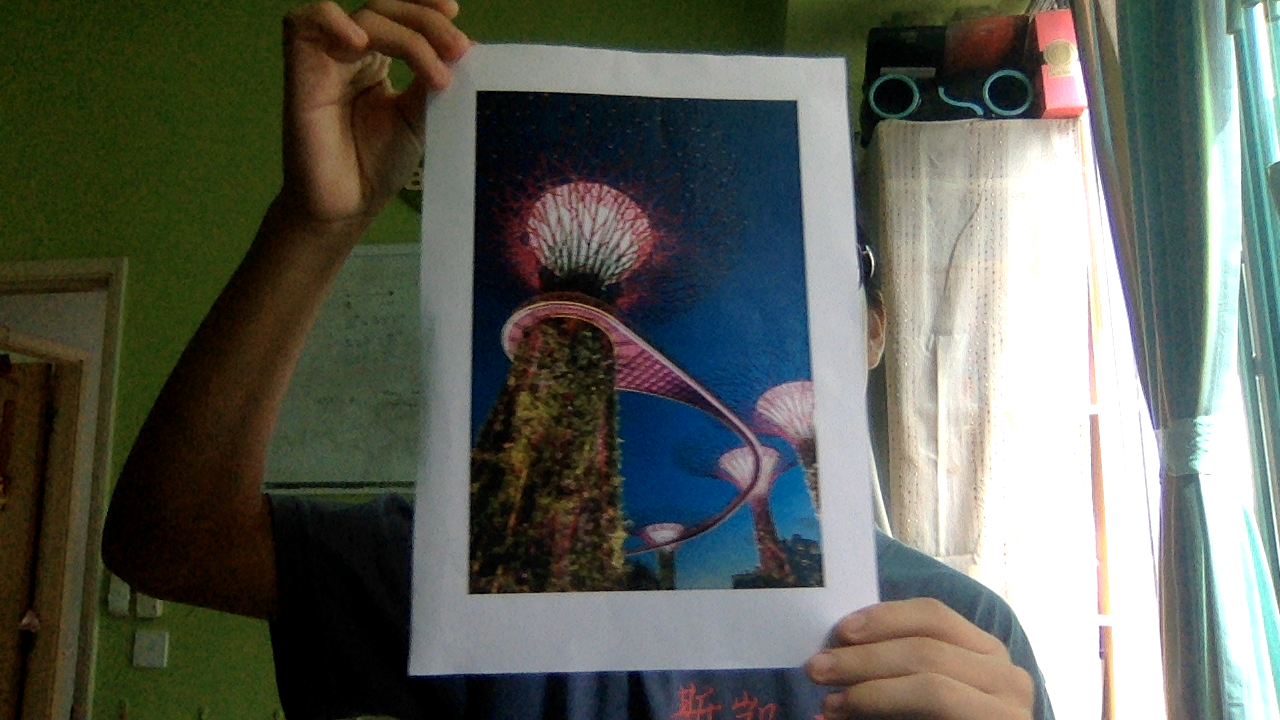GBTB: (452, 82, 829, 592)
